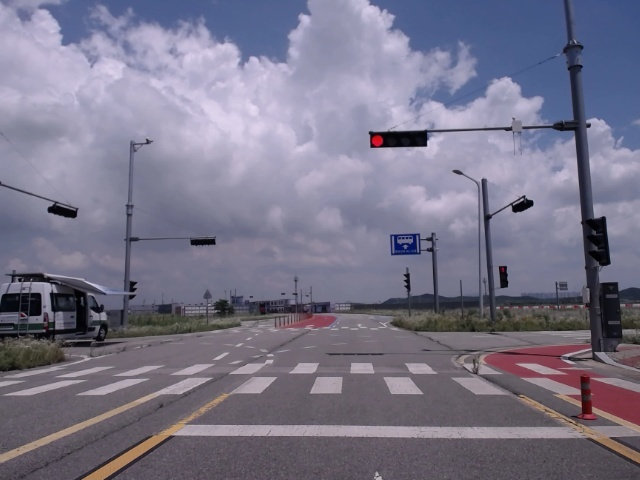red_4: (370, 131, 428, 148)
